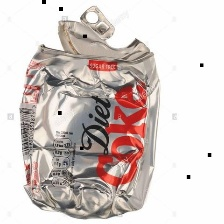can: (15, 3, 166, 221)
